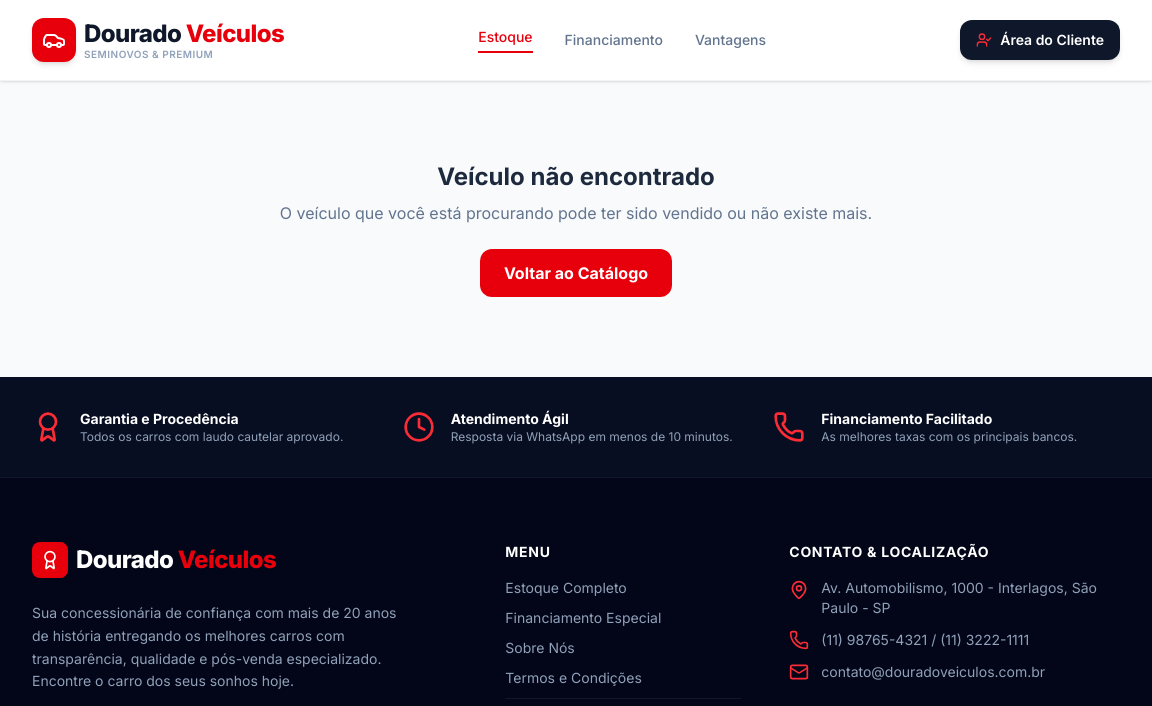
CarRouting › 7. Botao voltar ao estoque navega para "/"
Expected: the heading "Veículo não encontrado" is shown, [437,161,715,193]
Click the button "Voltar ao Catálogo" at (576, 273), box [480,249,672,297]
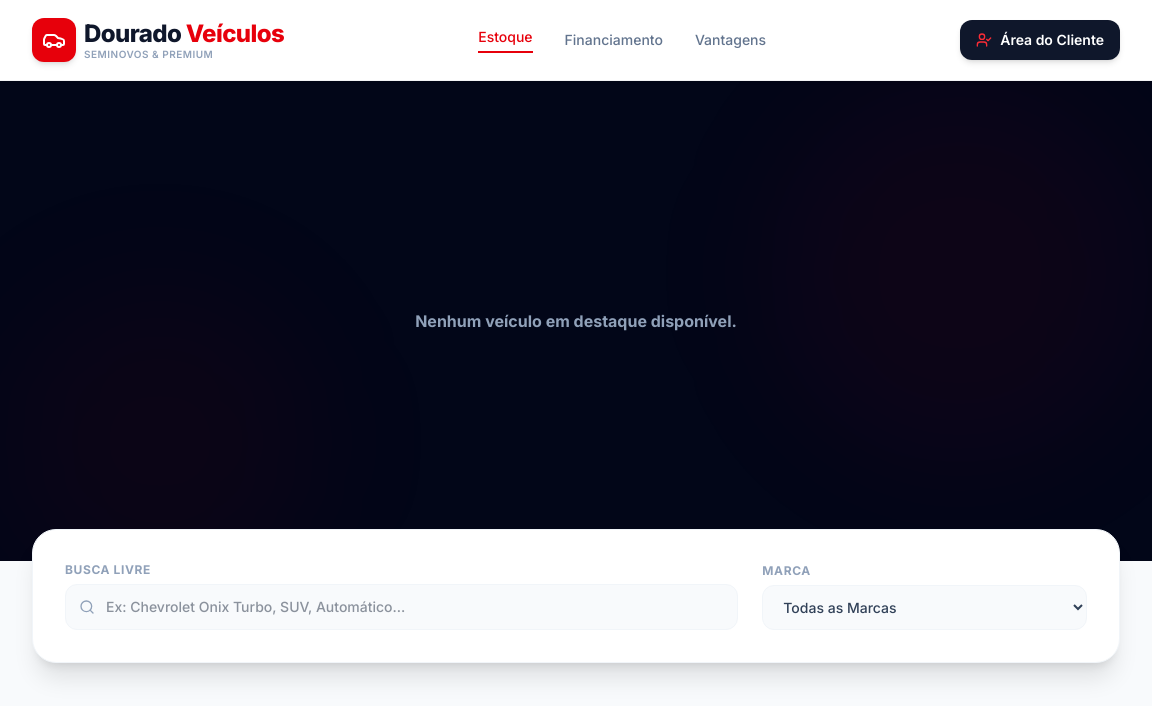
Expected: no headings "Veículo não encontrado" are shown
